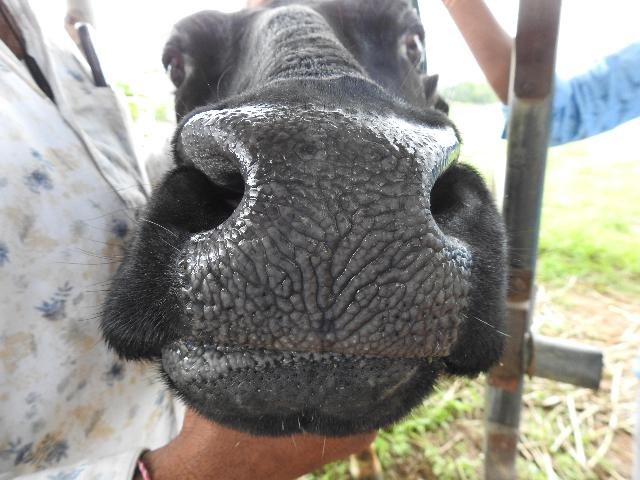Muzzle: (218, 115, 434, 360)
